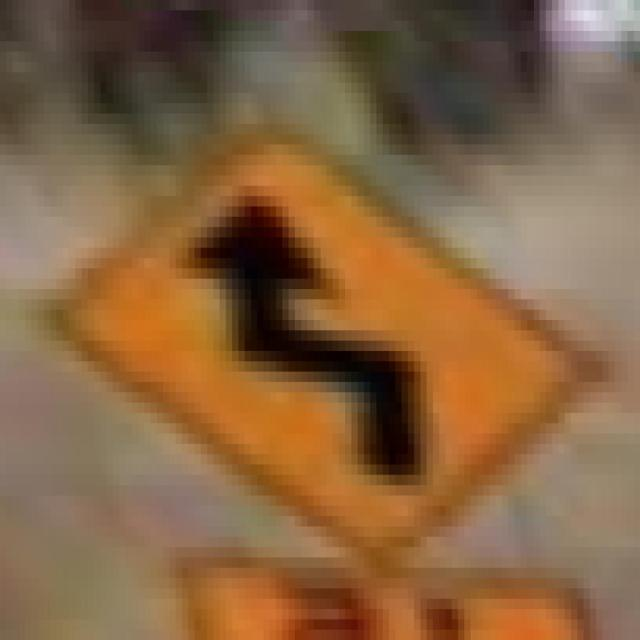Tikungan Ganda Pertama Ke Kiri: (31, 82, 602, 568)
